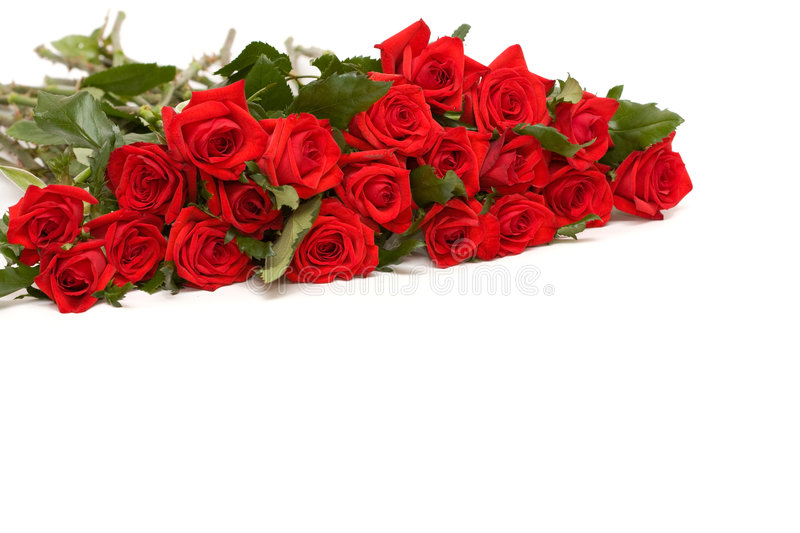RedRose: (155, 87, 265, 175), (599, 114, 688, 219), (335, 149, 426, 232), (287, 208, 382, 282), (382, 18, 460, 106), (355, 78, 434, 154), (167, 212, 254, 281), (545, 168, 624, 243), (482, 35, 549, 123), (553, 89, 625, 159), (276, 120, 342, 193), (12, 184, 90, 245), (487, 193, 554, 263), (108, 149, 177, 212), (419, 125, 494, 179), (101, 211, 158, 276), (51, 250, 109, 308), (441, 198, 489, 268), (209, 181, 277, 225), (506, 142, 551, 190)
